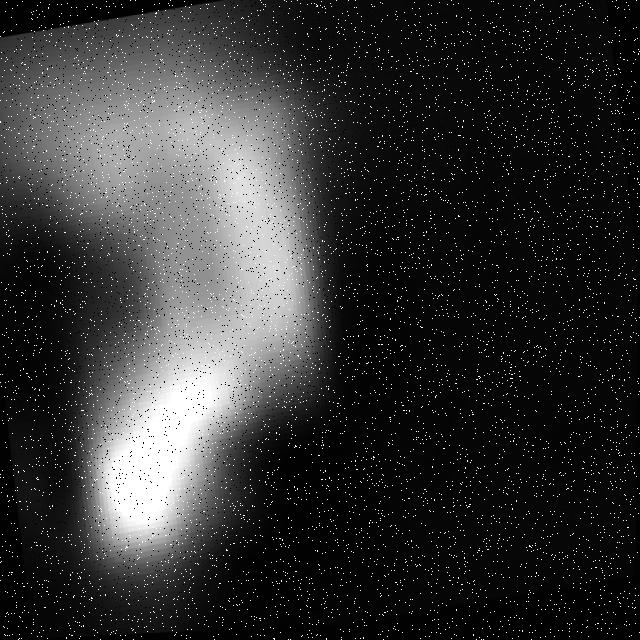person: (1, 1, 374, 623)
